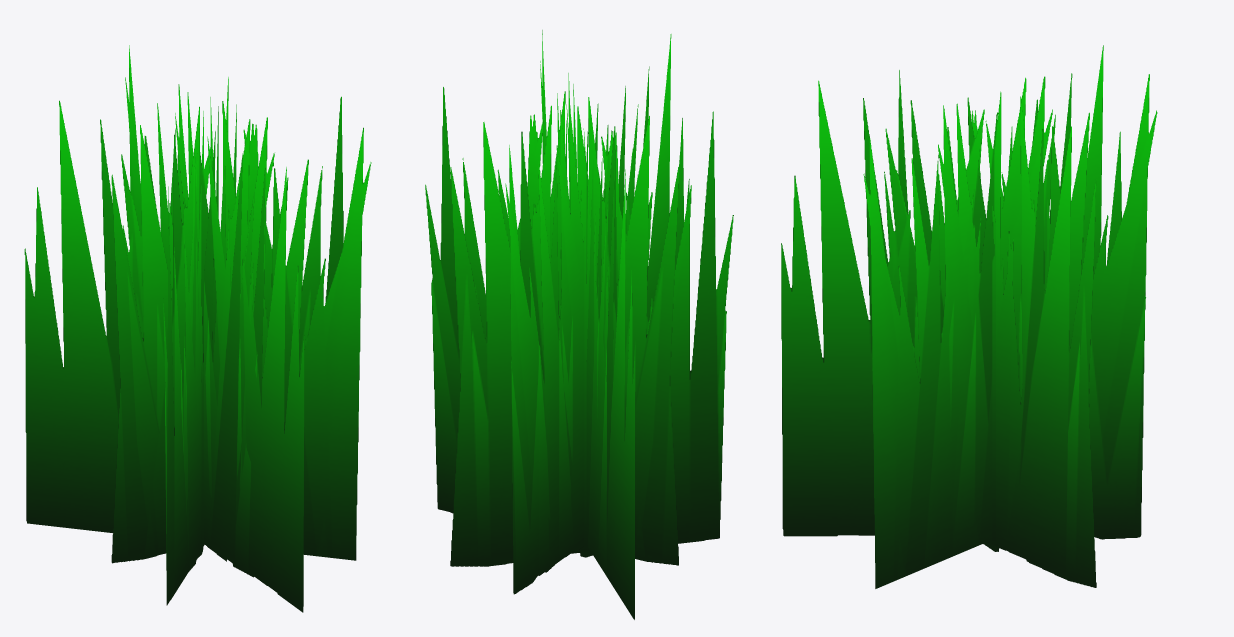
The model's file is SM_PowerWashGrassPlanes.fbx.
The picture shows the model from 3 angles, left to right: view 1: azimuth 30°, elevation 25°; view 2: azimuth 150°, elevation 25°; view 3: azimuth 270°, elevation 25°; orthographic projection. The views are drawn at different scales.
Visible parts, largest first — view 1: Grass; view 2: Grass; view 3: Grass.
Boxes of the visible parts, bbox=[...] form: Grass: bbox=[24, 45, 371, 612]; Grass: bbox=[425, 30, 733, 619]; Grass: bbox=[781, 45, 1157, 588].
Size of the model in its own units: 7.2 by 8.7 by 5.7.
1 material, 1 textured.
